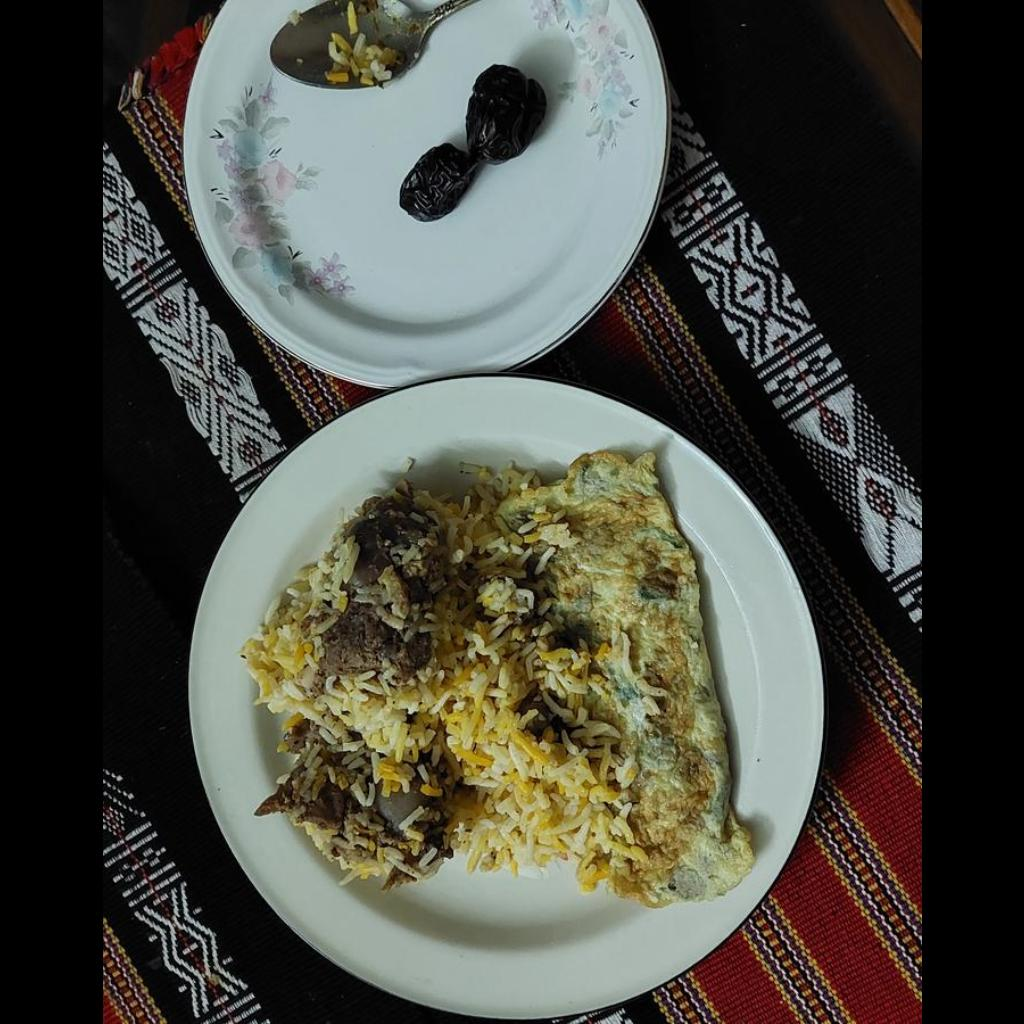biriyani: (243, 483, 631, 887)
dates: (398, 65, 550, 219)
egg-poached: (492, 449, 755, 910)
